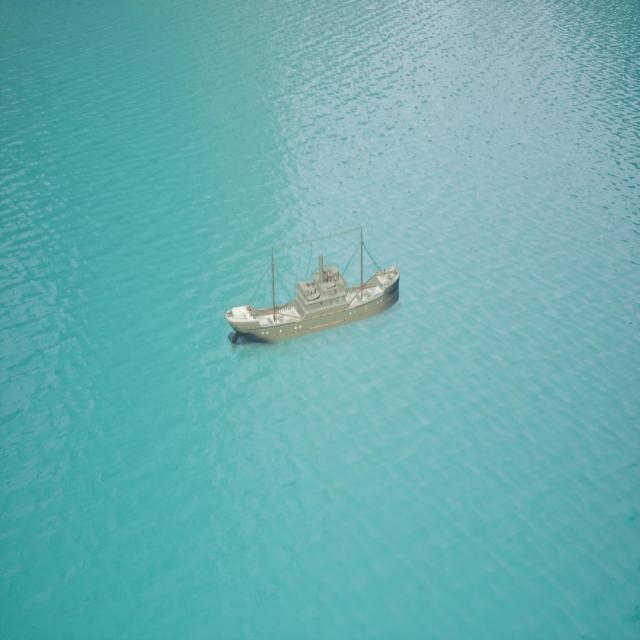fishing ship: (230, 246, 400, 348)
